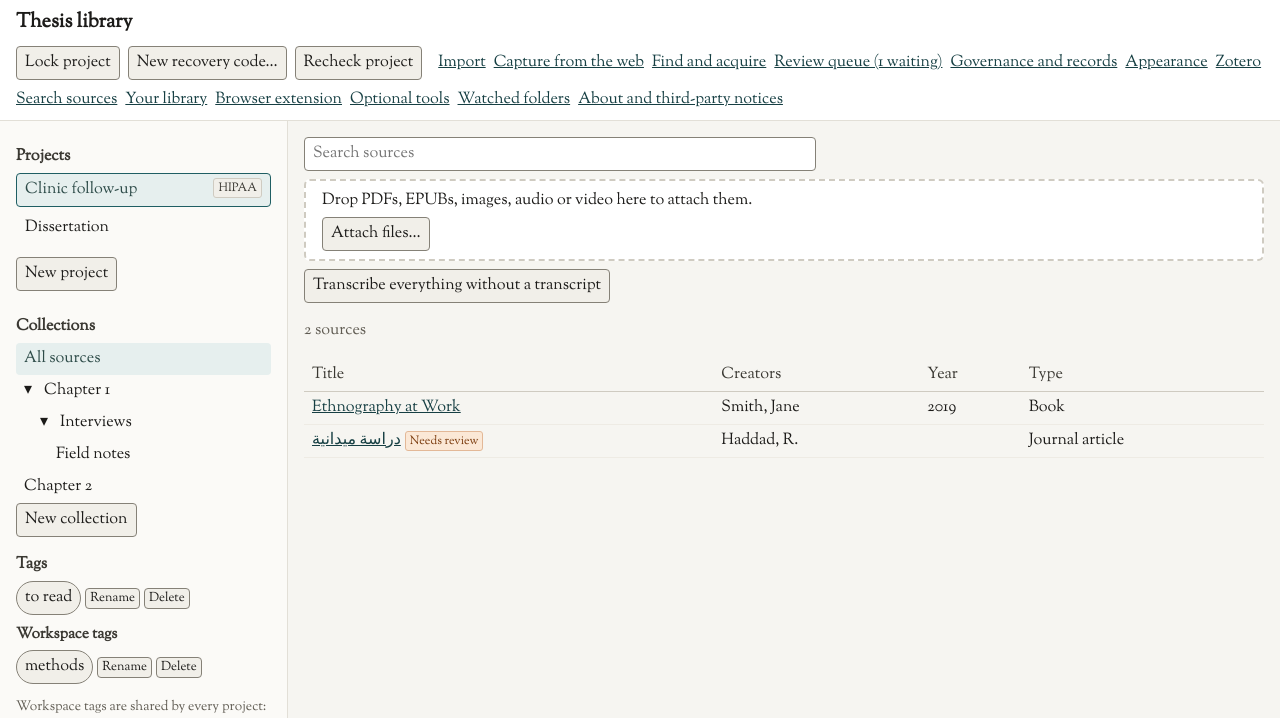
it: New recovery code dialog › a wrong passphrase is said plainly; the field is marked and cleared, and nothing else changes
This screenshot has width=1280, height=718.
Click the button "New recovery code…" at coordinates (207, 63), box [128,46,286,80]
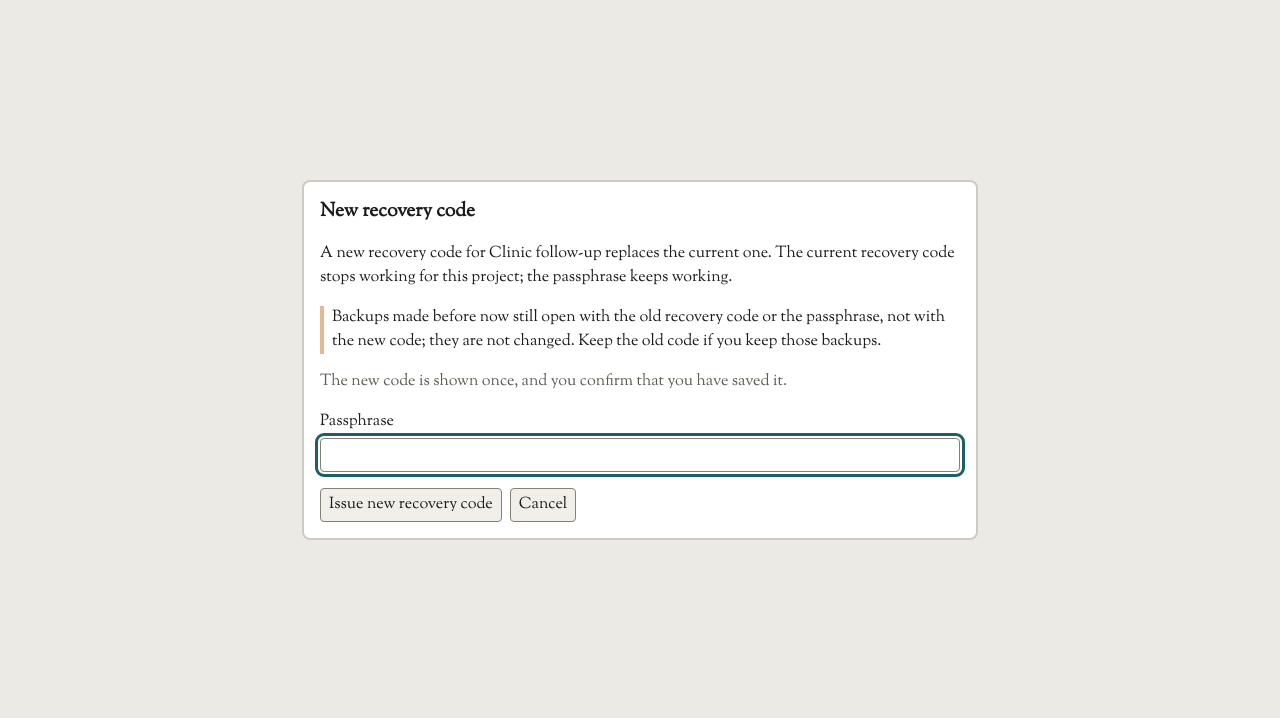
Type "not it" into the password field labelled "Passphrase" at coordinates (640, 455), box [320,438,960,472]
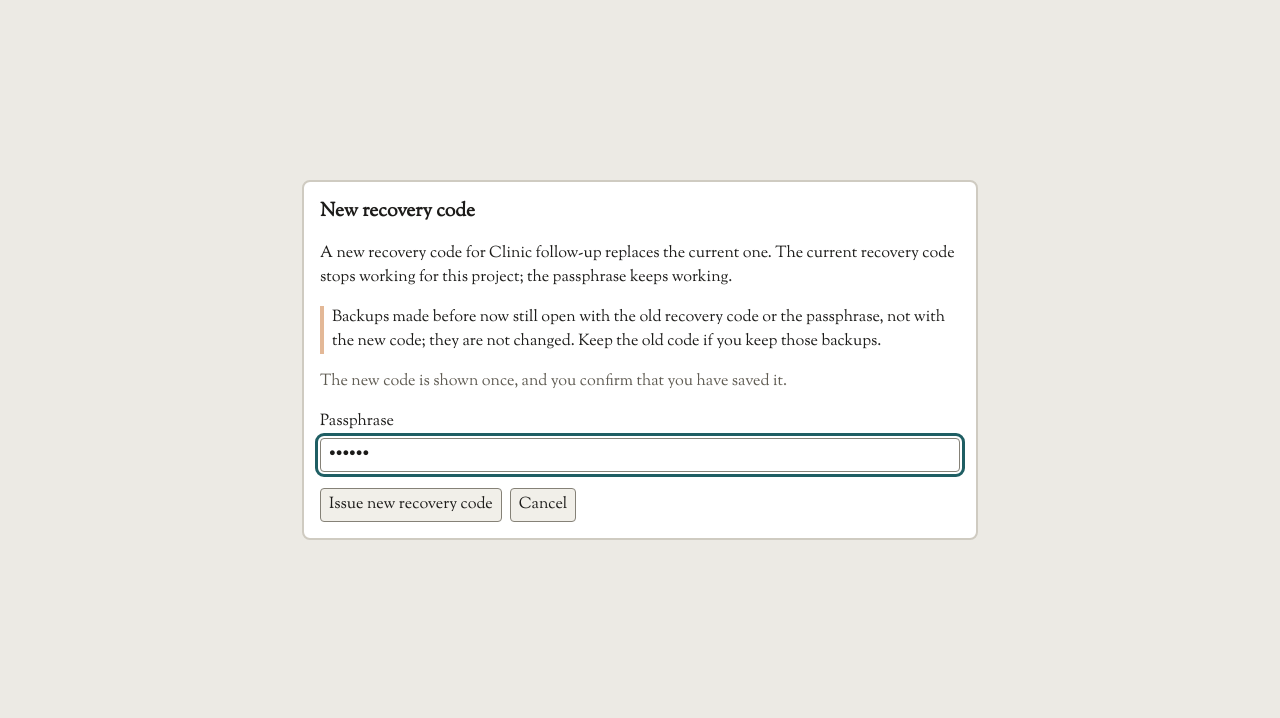
Click the button "Issue new recovery code" at coordinates (411, 505), box [320,488,502,522]
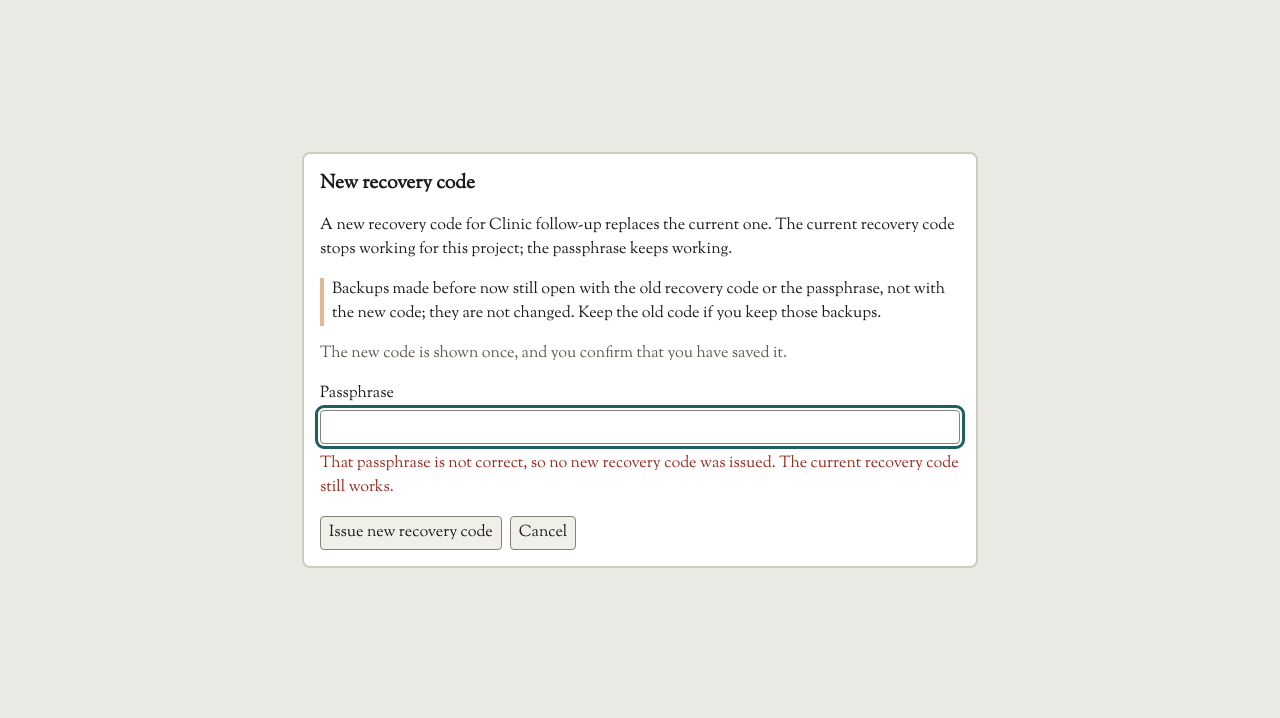
Check: the message shows "passphrase is not correct", box [320,452,959,499]
Check: the password field labelled "Passphrase" is empty
Check: the message shows "still works", box [320,452,959,499]
Type "correct horse battery" into the password field labelled "Passphrase" at coordinates (640, 427), box [320,410,960,444]
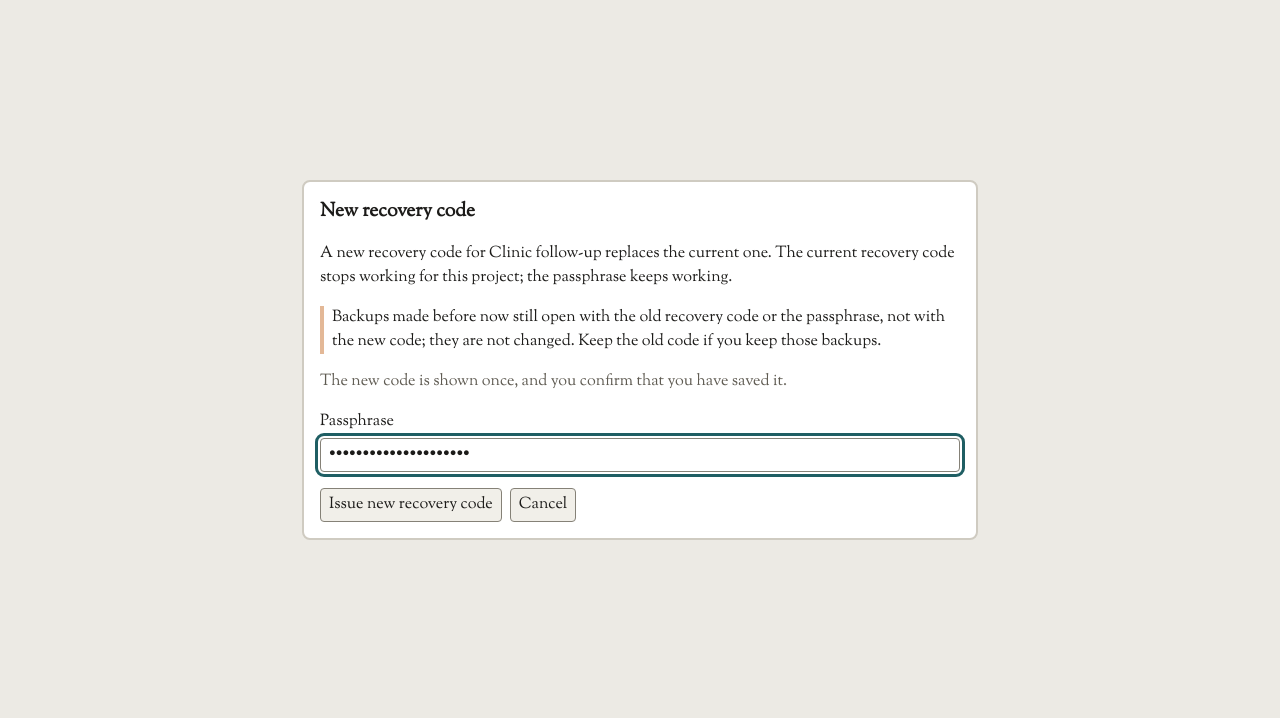
Click the button "Issue new recovery code" at coordinates (411, 505), box [320,488,502,522]
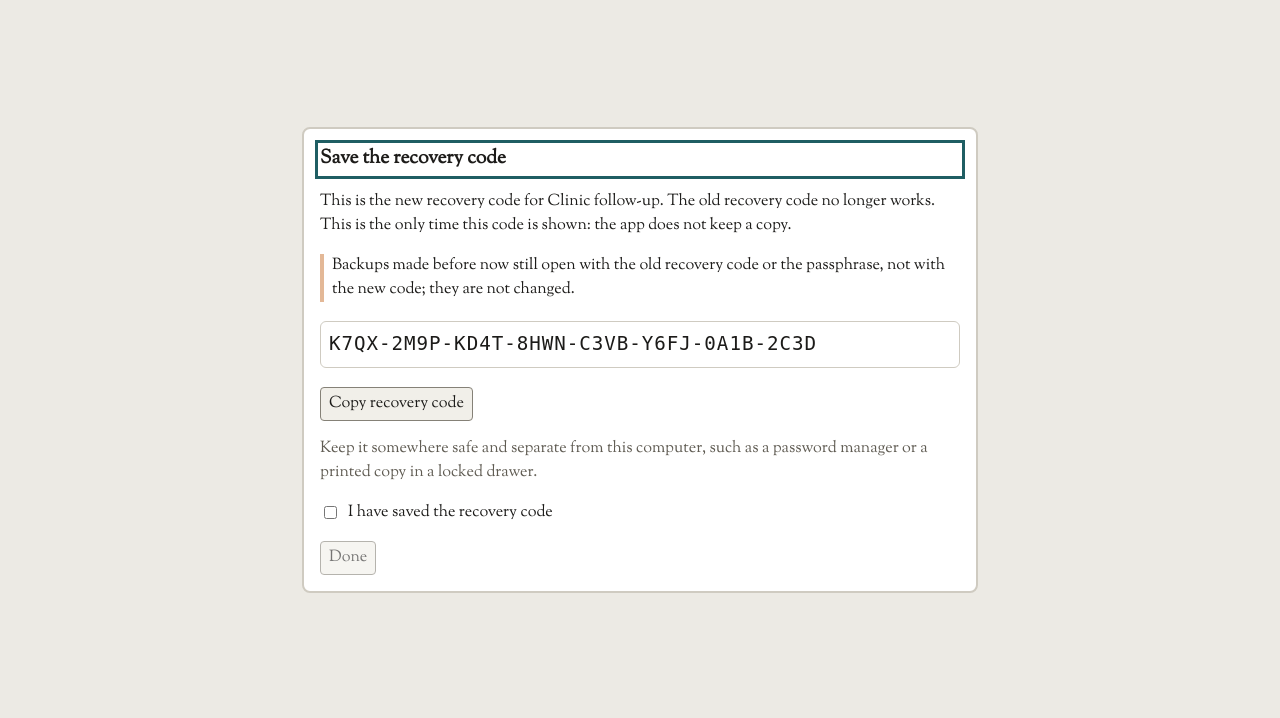
Check: the dialog "Save the recovery code" is shown, box [302,127,978,593]
